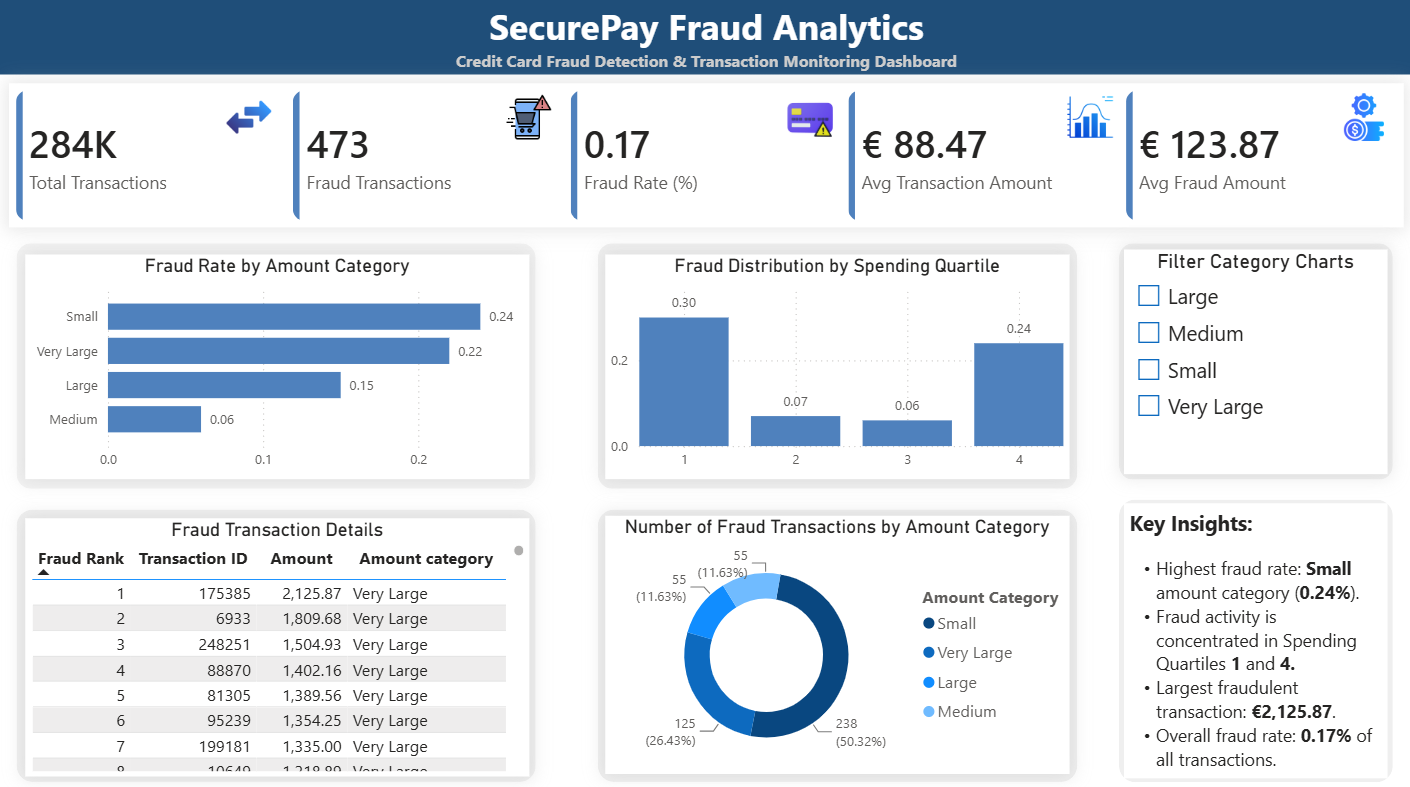

The dashboard page shown, as its layout file describes it:
{"tool":"powerbi","page":{"name":"Fraud Overview","canvas":[1280,720],"ordinal":0},"visuals":[{"type":"shape","box":[0,0,1279.9,70.1],"z":0},{"type":"cardVisual","fields":{"Data":["Sum(public vw_executive_summary.total_transactions)","Sum(public vw_executive_summary.fraud_transactions)","Sum(public vw_executive_summary.fraud_percentage)","Sum(public vw_executive_summary.avg_transaction_amount)","Sum(public vw_executive_summary.avg_fraud_amount)"]},"box":[9.3,77.9,1261.6,130.2],"z":1000},{"type":"textbox","box":[0,0,1279.9,78],"z":2000},{"type":"shape","box":[16.3,223.3,469.8,222.1],"z":3000},{"type":"clusteredBarChart","title":"Fraud Rate by Amount Category","fields":{"Category":["public vw_amount_category_summary.amount_category"],"Y":["Sum(public vw_amount_category_summary.fraud_percentage)"]},"box":[23.3,232.6,455.8,203.5],"z":4000},{"type":"shape","box":[541.9,223.3,433.7,222.1],"z":5000},{"type":"columnChart","title":"Fraud Distribution by Spending Quartile","fields":{"Category":["public vw_spending_quartiles.spending_quartile"],"Y":["Sum(public vw_spending_quartiles.fraud_percentage)"]},"box":[548.8,232.6,419.8,203.5],"z":6000},{"type":"shape","box":[1012.8,223.3,247.7,214],"z":7000},{"type":"slicer","title":"Filter Category Charts","fields":{"Values":["public vw_amount_category_summary.amount_category"]},"box":[1017.4,227.9,238.4,203.5],"z":8000},{"type":"shape","box":[16.3,464,469.8,246.5],"z":9000},{"type":"tableEx","title":"Fraud Transaction Details","fields":{"Values":["public vw_fraud_ranking.fraud_rank","public vw_fraud_ranking.transaction_id","public vw_fraud_ranking.amount","public vw_fraud_ranking.amount_category"]},"box":[23.3,470.9,455.8,233.7],"z":10000},{"type":"shape","box":[541.9,464,433.7,246.5],"z":11000},{"type":"donutChart","fields":{"Category":["public vw_amount_category_summary.amount_category"],"Y":["Sum(public vw_amount_category_summary.fraud_transactions)"]},"box":[548.8,469.8,419.8,233.7],"z":12000},{"type":"shape","box":[1012.8,454.7,247.7,255.8],"z":13000},{"type":"textbox","box":[1017.4,458.1,238.4,248.8],"z":14000},{"type":"image","box":[1209.3,87.2,50,43],"z":14001},{"type":"image","box":[454.7,87.2,50,43],"z":14002},{"type":"image","box":[709.3,87.2,50,43],"z":14003},{"type":"image","box":[961.6,87.2,50,43],"z":14004},{"type":"image","box":[201.2,87.2,50,43],"z":14005}]}

Visuals, with their boxes in screenshot pixels (x1, y1, x2, y2), scaled from the page's 1280x720 canvas onto the 1410x787 screenshot:
shape: bbox=[0, 0, 1409, 77]
cardVisual - Sum(public vw_executive_summary.total_transactions) x Sum(public vw_executive_summary.fraud_transactions): bbox=[10, 85, 1400, 227]
textbox: bbox=[0, 0, 1409, 85]
shape: bbox=[18, 244, 535, 487]
"Fraud Rate by Amount Category" clusteredBarChart: bbox=[26, 254, 528, 477]
shape: bbox=[597, 244, 1075, 487]
"Fraud Distribution by Spending Quartile" columnChart: bbox=[605, 254, 1067, 477]
shape: bbox=[1116, 244, 1389, 478]
"Filter Category Charts" slicer: bbox=[1121, 249, 1383, 472]
shape: bbox=[18, 507, 535, 777]
"Fraud Transaction Details" tableEx: bbox=[26, 515, 528, 770]
shape: bbox=[597, 507, 1075, 777]
donutChart - public vw_amount_category_summary.amount_category x Sum(public vw_amount_category_summary.fraud_transactions): bbox=[605, 514, 1067, 769]
shape: bbox=[1116, 497, 1389, 777]
textbox: bbox=[1121, 501, 1383, 773]
image: bbox=[1332, 95, 1387, 142]
image: bbox=[501, 95, 556, 142]
image: bbox=[781, 95, 836, 142]
image: bbox=[1059, 95, 1114, 142]
image: bbox=[222, 95, 277, 142]
